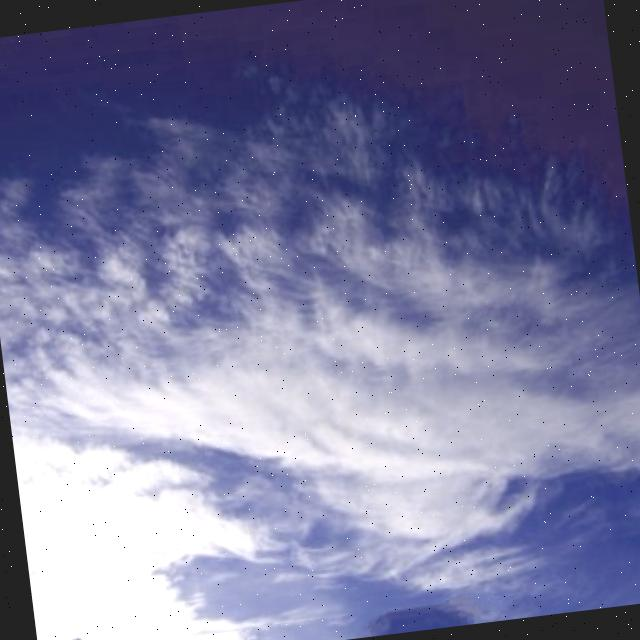Ci: (1, 38, 640, 640)
